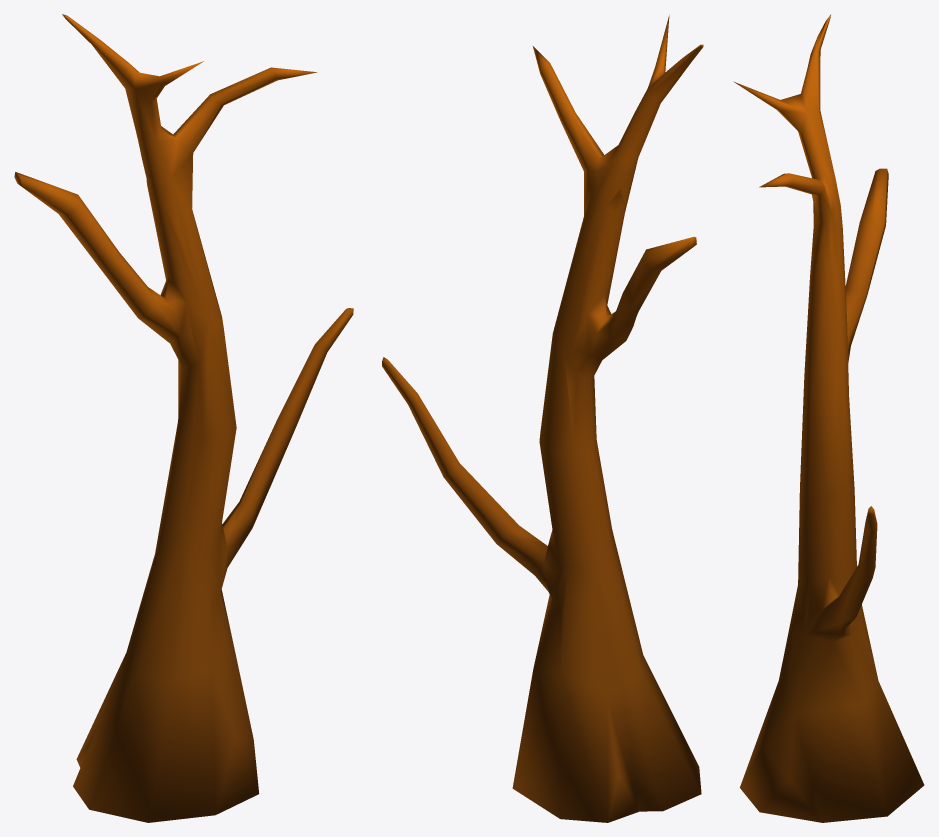
The model's file is Plant_Dead_Tree_01.fbx.
The picture shows the model from 3 angles, left to right: view 1: azimuth 30°, elevation 25°; view 2: azimuth 150°, elevation 25°; view 3: azimuth 270°, elevation 25°; orthographic projection. The views are drawn at different scales.
Parts seen in each view (by area): view 1: Plant_Dead_Tree_01; view 2: Plant_Dead_Tree_01; view 3: Plant_Dead_Tree_01.
Boxes of the visible parts, x1,y1,x2,y2 form: Plant_Dead_Tree_01: [14, 14, 353, 822]; Plant_Dead_Tree_01: [382, 15, 703, 822]; Plant_Dead_Tree_01: [733, 14, 924, 822].
Size of the model in its own units: 142 by 327 by 78.18.
